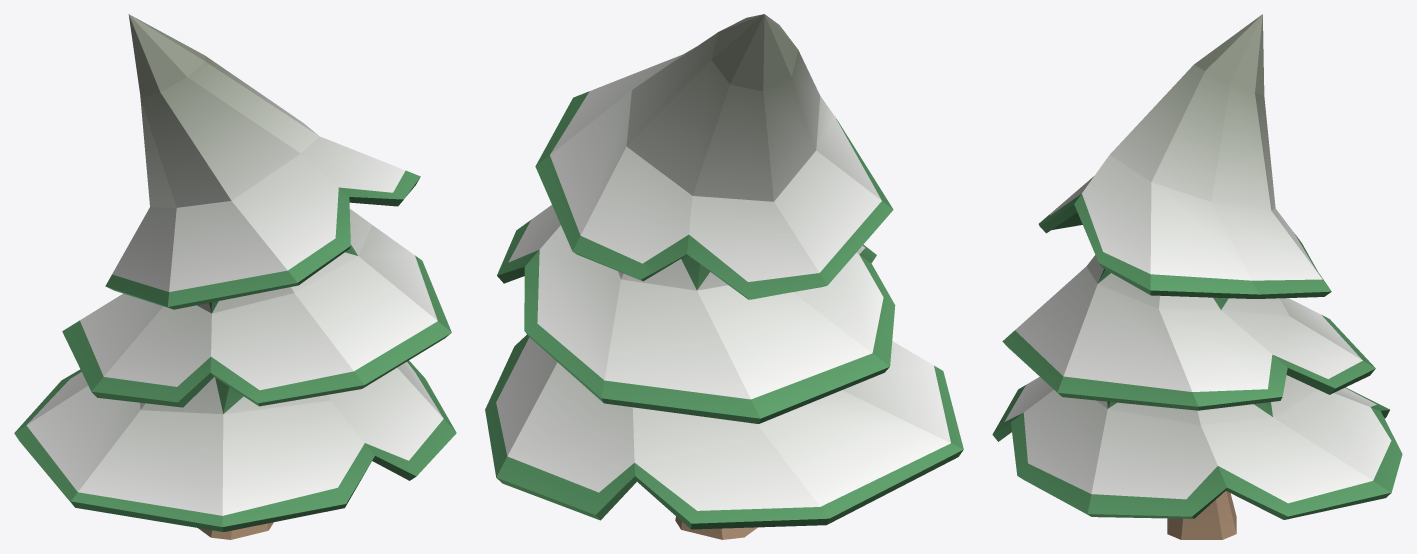
File: SnowPine4.fbx
3 views of the same model, side by side, from view 1: azimuth 30°, elevation 25°; view 2: azimuth 150°, elevation 25°; view 3: azimuth 270°, elevation 25° (orthographic). The views are drawn at different scales.
Parts seen in each view (by area): view 1: SnowPine4; view 2: SnowPine4; view 3: SnowPine4.
Boxes of the visible parts, x1,y1,x2,y2 form: SnowPine4: (14,14,456,539); SnowPine4: (485,14,963,539); SnowPine4: (992,14,1402,539).
Size of the model in its own units: 436 by 551 by 428.
